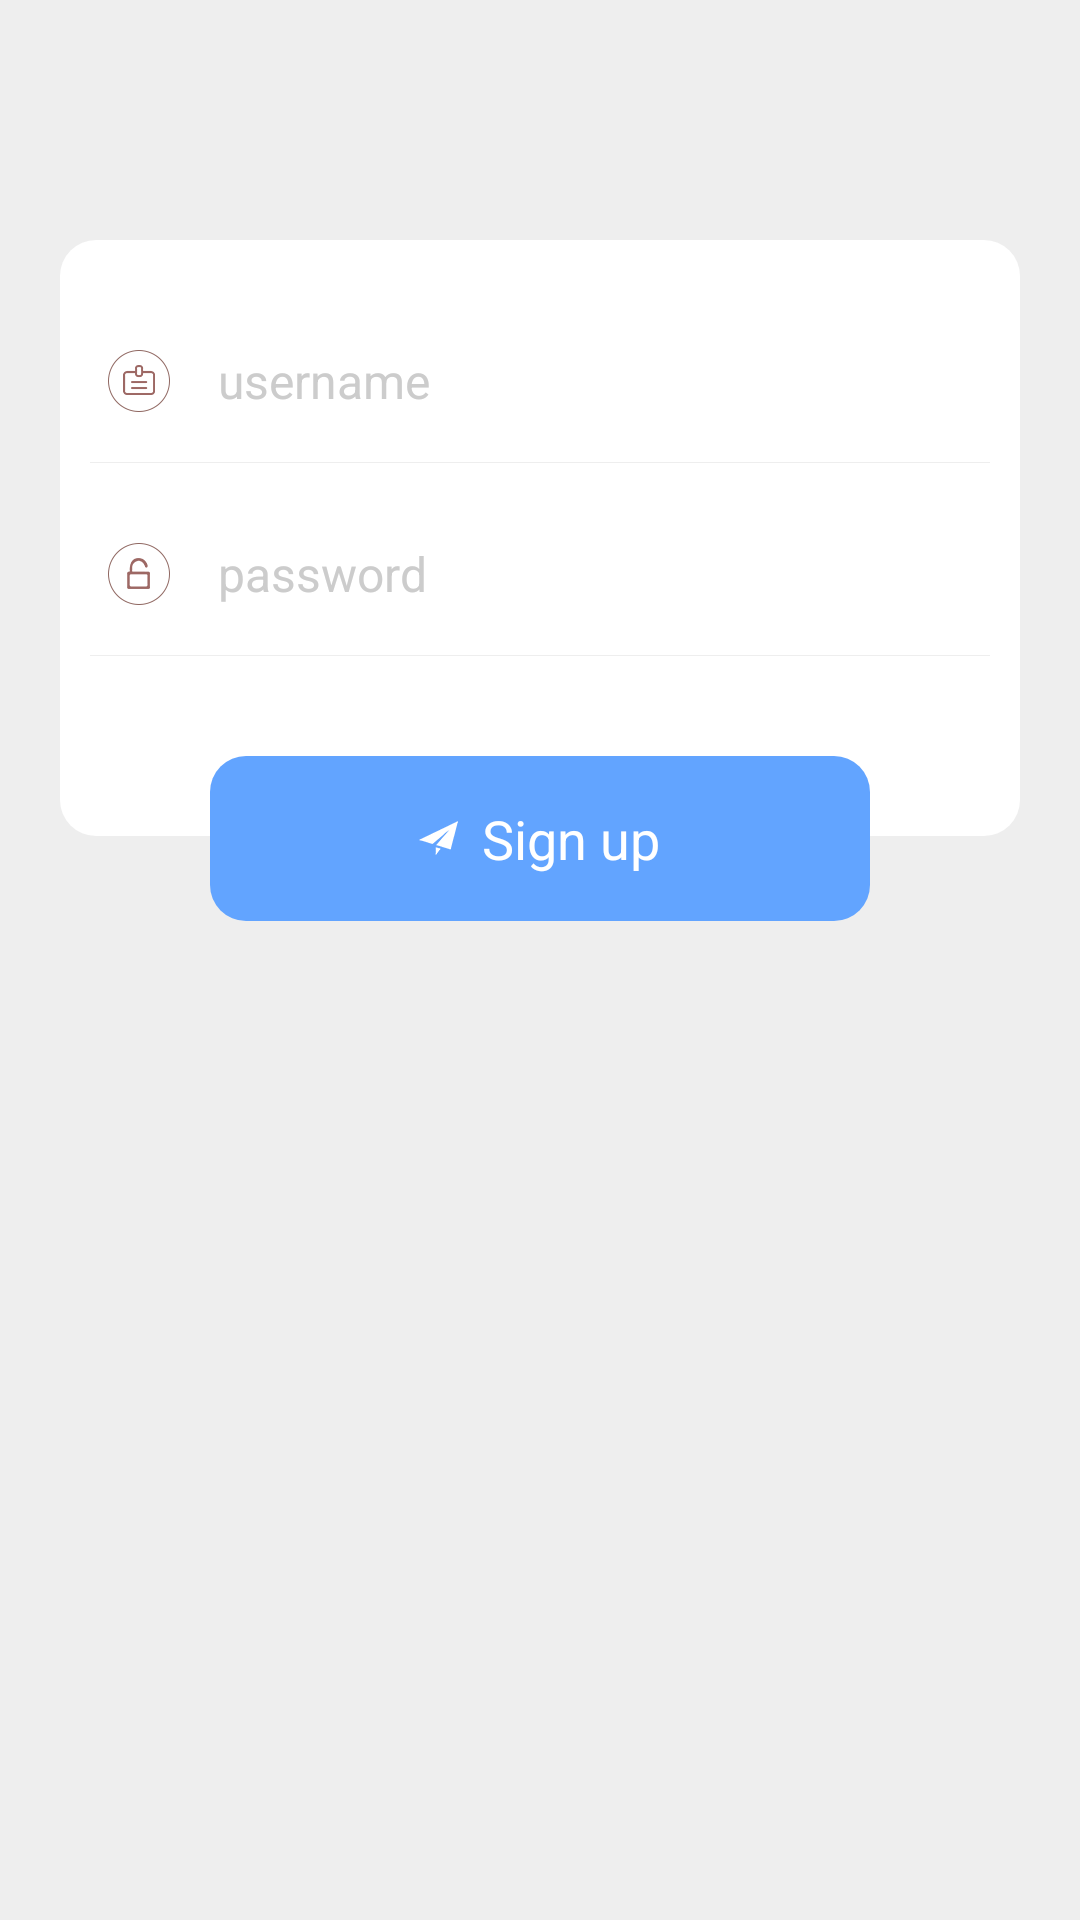

Named icons in this screenshot (1080x1920) and their centers, point (x, y):
gonghao: point (139, 381)
mima: point (139, 574)
